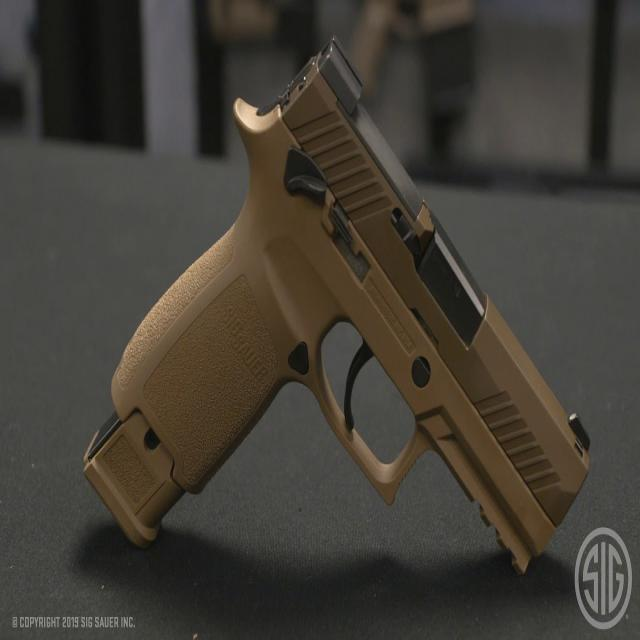HandGun: (82, 38, 592, 575)
